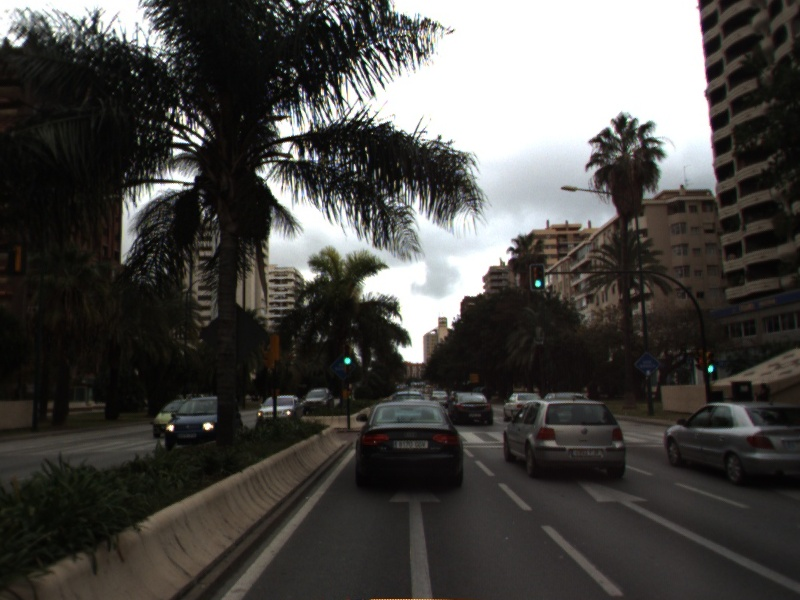STRAIGHT: (573, 476, 800, 593), (384, 484, 445, 600)
